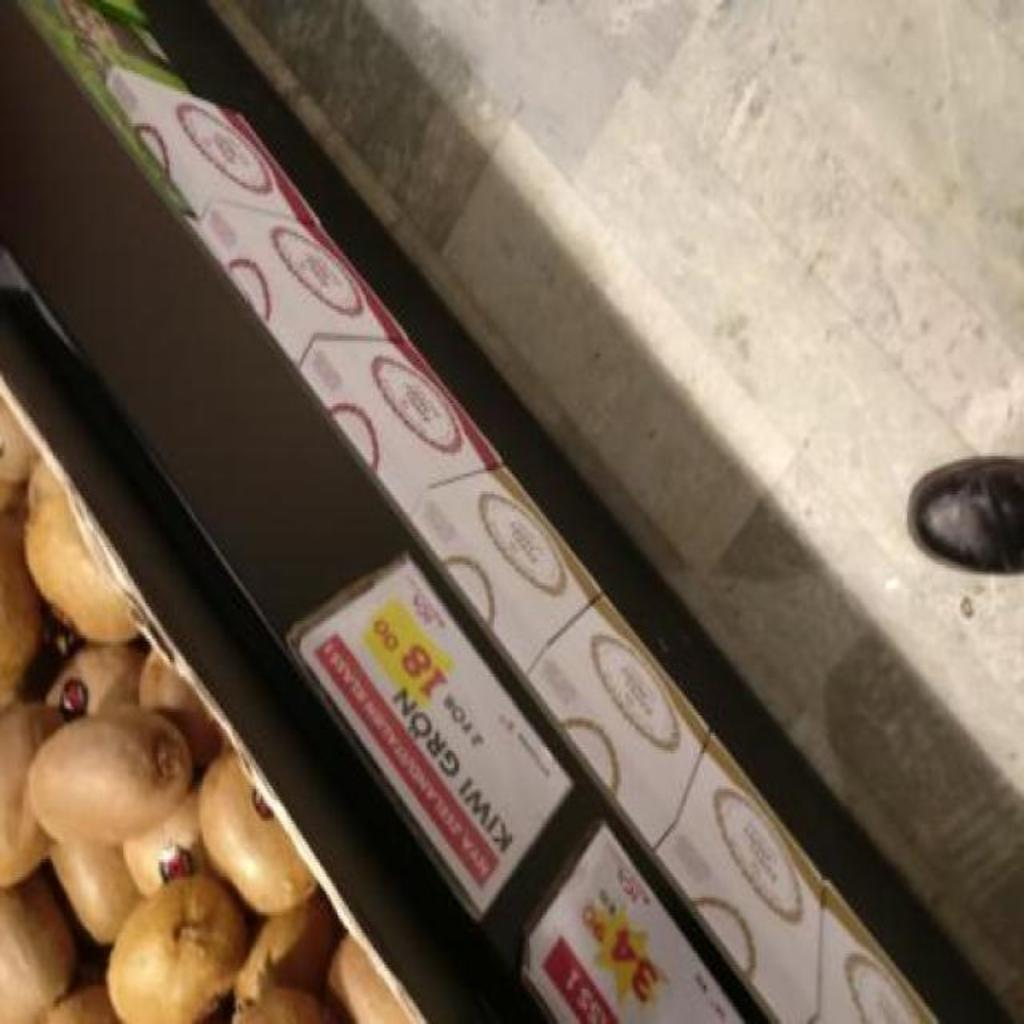kiwi: (30, 707, 192, 845), (108, 875, 248, 1021), (26, 461, 133, 640), (200, 752, 314, 915), (0, 704, 62, 888), (239, 893, 340, 1005), (0, 875, 74, 1021), (140, 651, 220, 768), (124, 789, 208, 896), (52, 844, 140, 944), (1, 513, 40, 707), (48, 645, 144, 720), (328, 936, 412, 1021), (234, 987, 324, 1024), (49, 984, 118, 1024)
